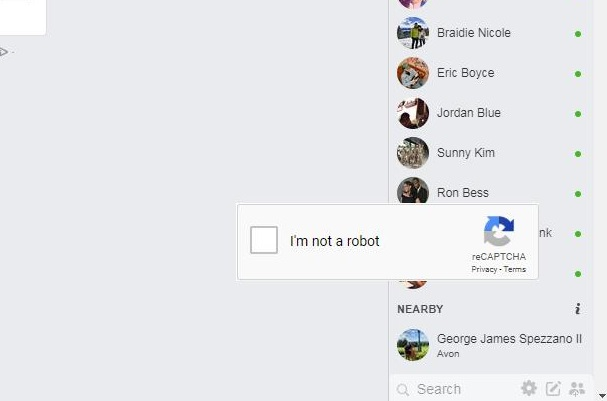captcha: (250, 226, 380, 254)
